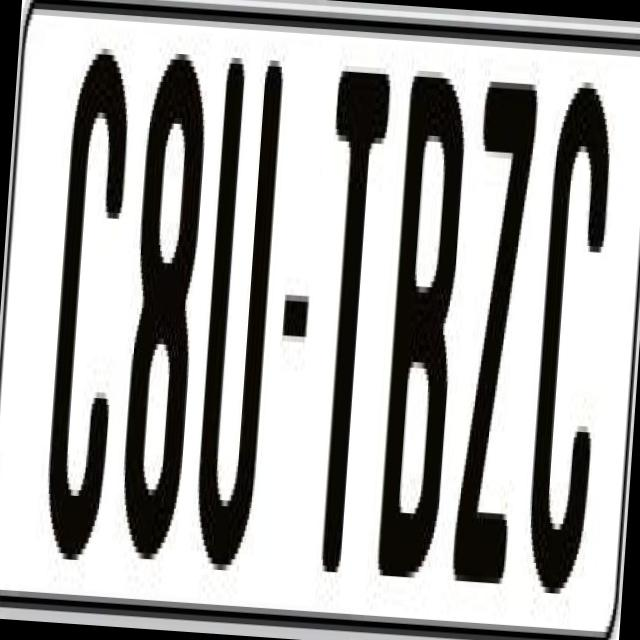8: (117, 51, 210, 566)
B: (371, 69, 467, 608)
C: (520, 74, 620, 595), (41, 46, 137, 585)
T: (298, 70, 390, 602)
U: (192, 39, 286, 566)
Z: (449, 80, 548, 608)
